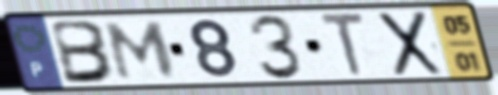3: (247, 12, 305, 82)
8: (187, 16, 241, 81)
B: (48, 19, 119, 86)
M: (104, 20, 179, 82)
T: (317, 10, 369, 80)
X: (376, 8, 446, 79)
